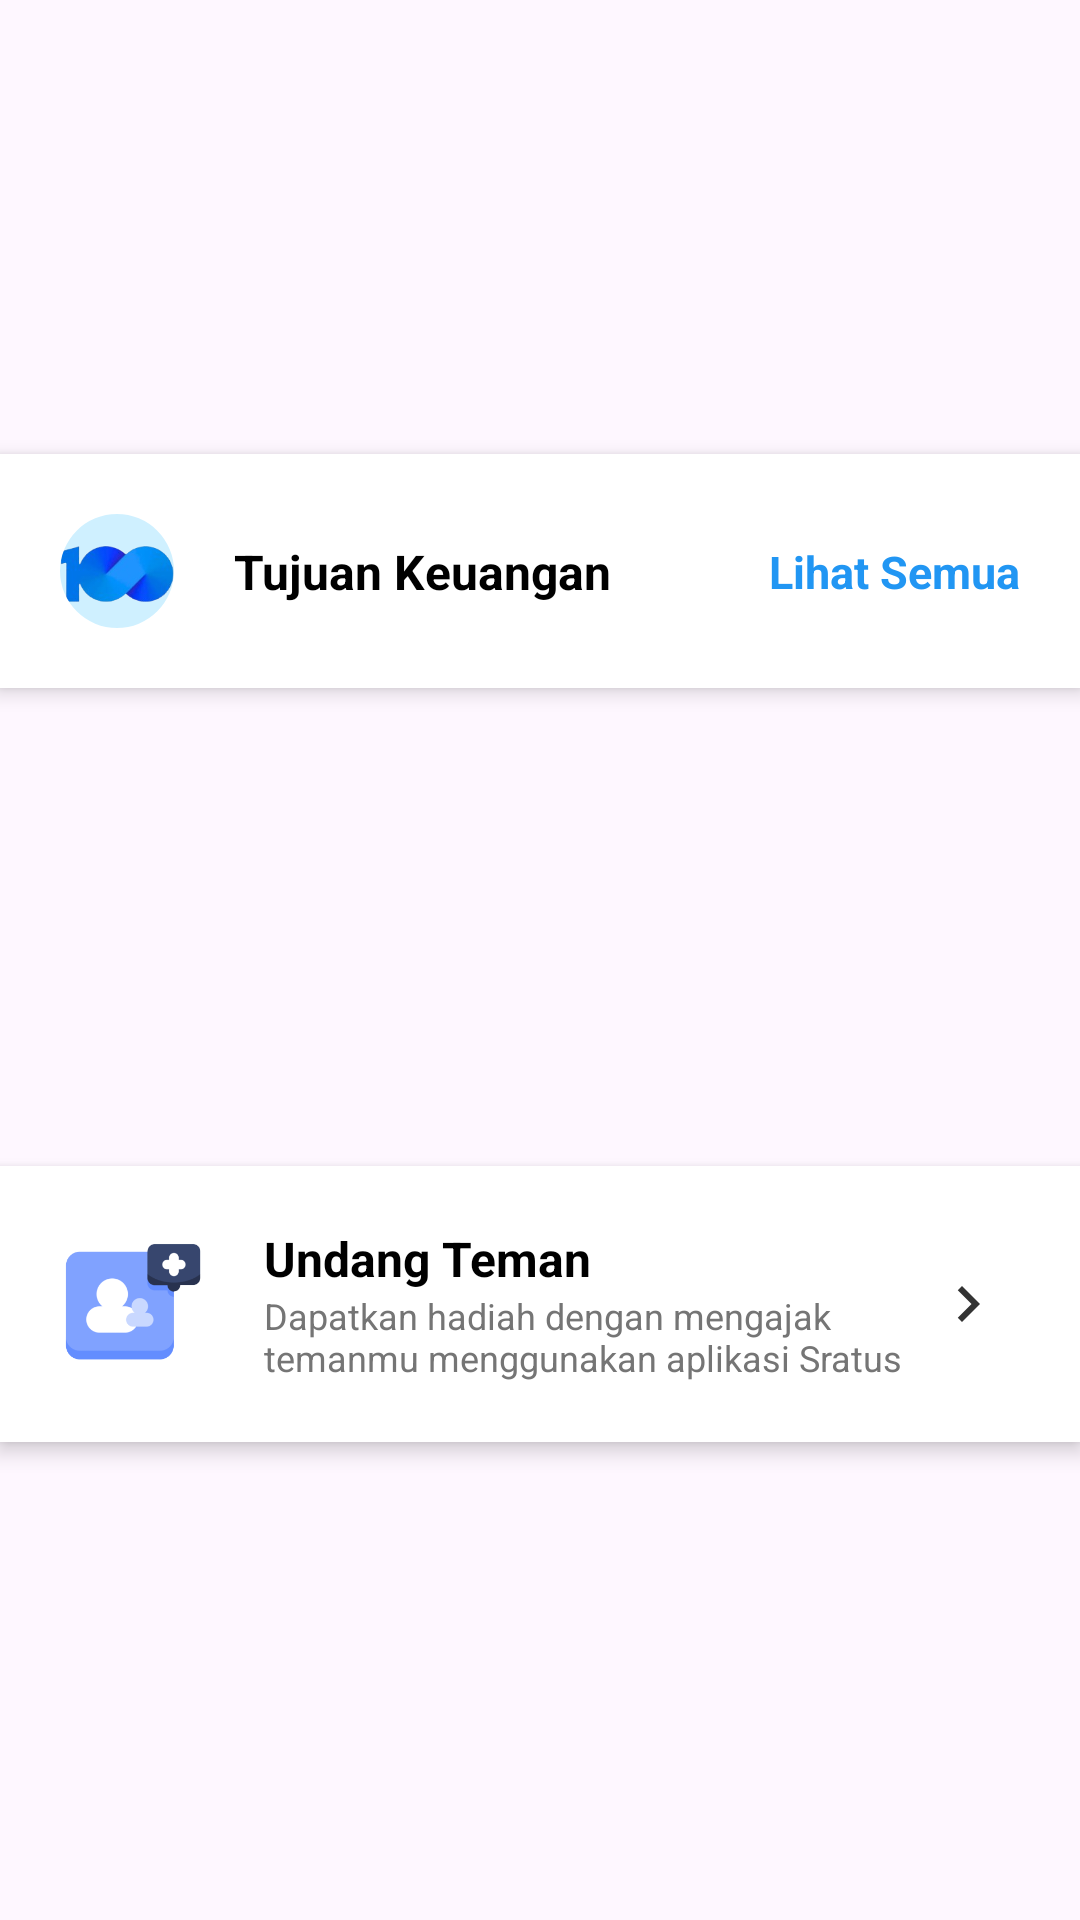

Where icons sit on this 1080px x 1920px app screen, as [x1,y1,x2,y2]:
next detail: [958,1286,980,1322]
